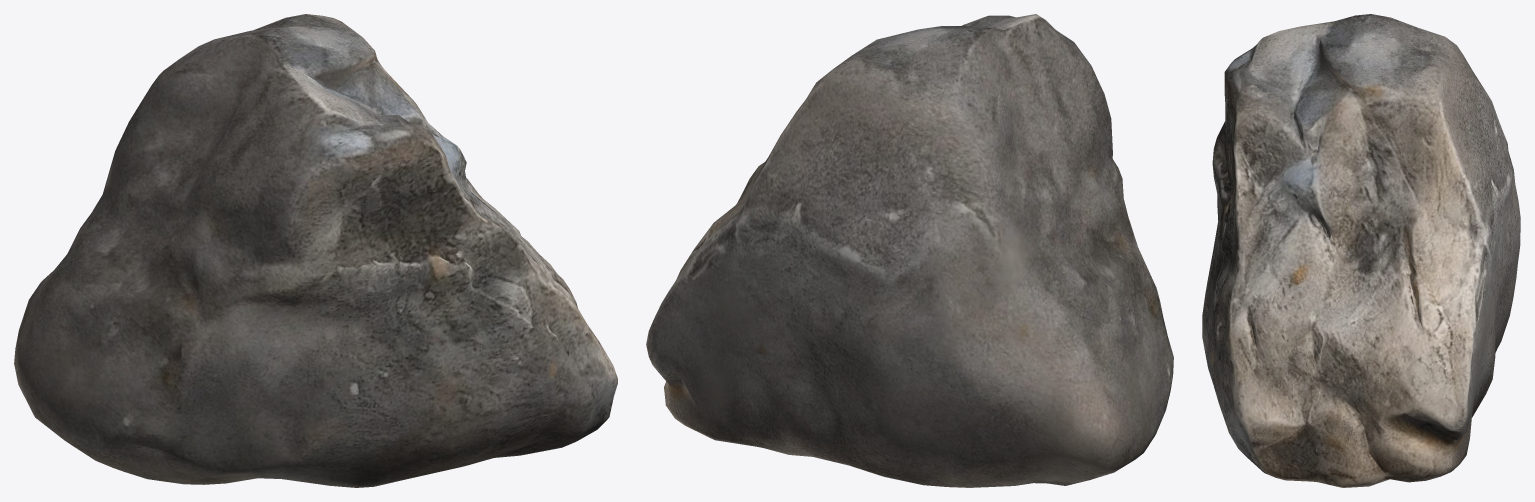
The model's file is weathered-stone-high.glb.
The picture shows the model from 3 angles, left to right: view 1: azimuth 30°, elevation 25°; view 2: azimuth 150°, elevation 25°; view 3: azimuth 270°, elevation 25°; orthographic projection. The views are drawn at different scales.
Parts seen in each view (by area): view 1: weathered-stone-high; view 2: weathered-stone-high; view 3: weathered-stone-high.
Part boxes in pixels (left/top/right/bottom): weathered-stone-high: left=14, top=14, right=617, bottom=487; weathered-stone-high: left=646, top=14, right=1173, bottom=487; weathered-stone-high: left=1202, top=14, right=1520, bottom=487.
Size of the model in its own units: 1.19 by 1 by 0.8075.
1 material, 1 textured.
